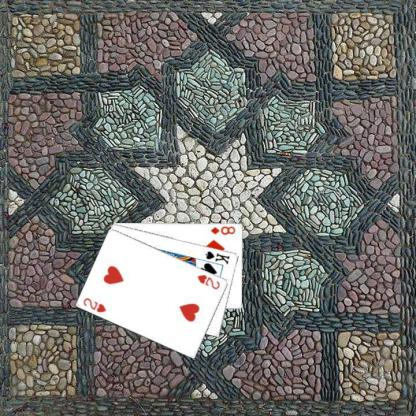2H: (195, 272, 221, 291), (81, 295, 107, 314)
8D: (208, 224, 236, 235)
KS: (203, 249, 231, 266)
